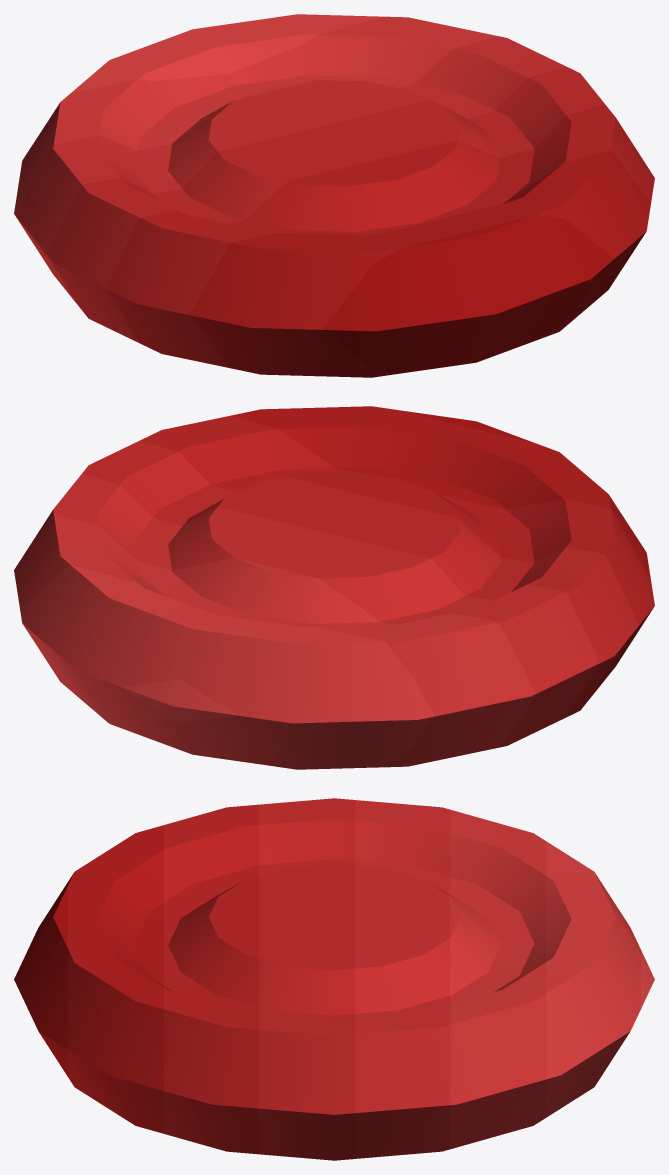
The model's file is cybergaj_ball.fbx.
The picture shows the model from 3 angles, top to bottom: view 1: azimuth 30°, elevation 25°; view 2: azimuth 150°, elevation 25°; view 3: azimuth 270°, elevation 25°; orthographic projection.
Visible parts, largest first — view 1: cybergaj_ball; view 2: cybergaj_ball; view 3: cybergaj_ball.
Part boxes in pixels (x1,y1,x2,y2): cybergaj_ball: (14,14,654,377); cybergaj_ball: (14,406,654,769); cybergaj_ball: (14,798,654,1160).
Bounding box in the file's own units: 52.04 × 11.16 × 52.04.
